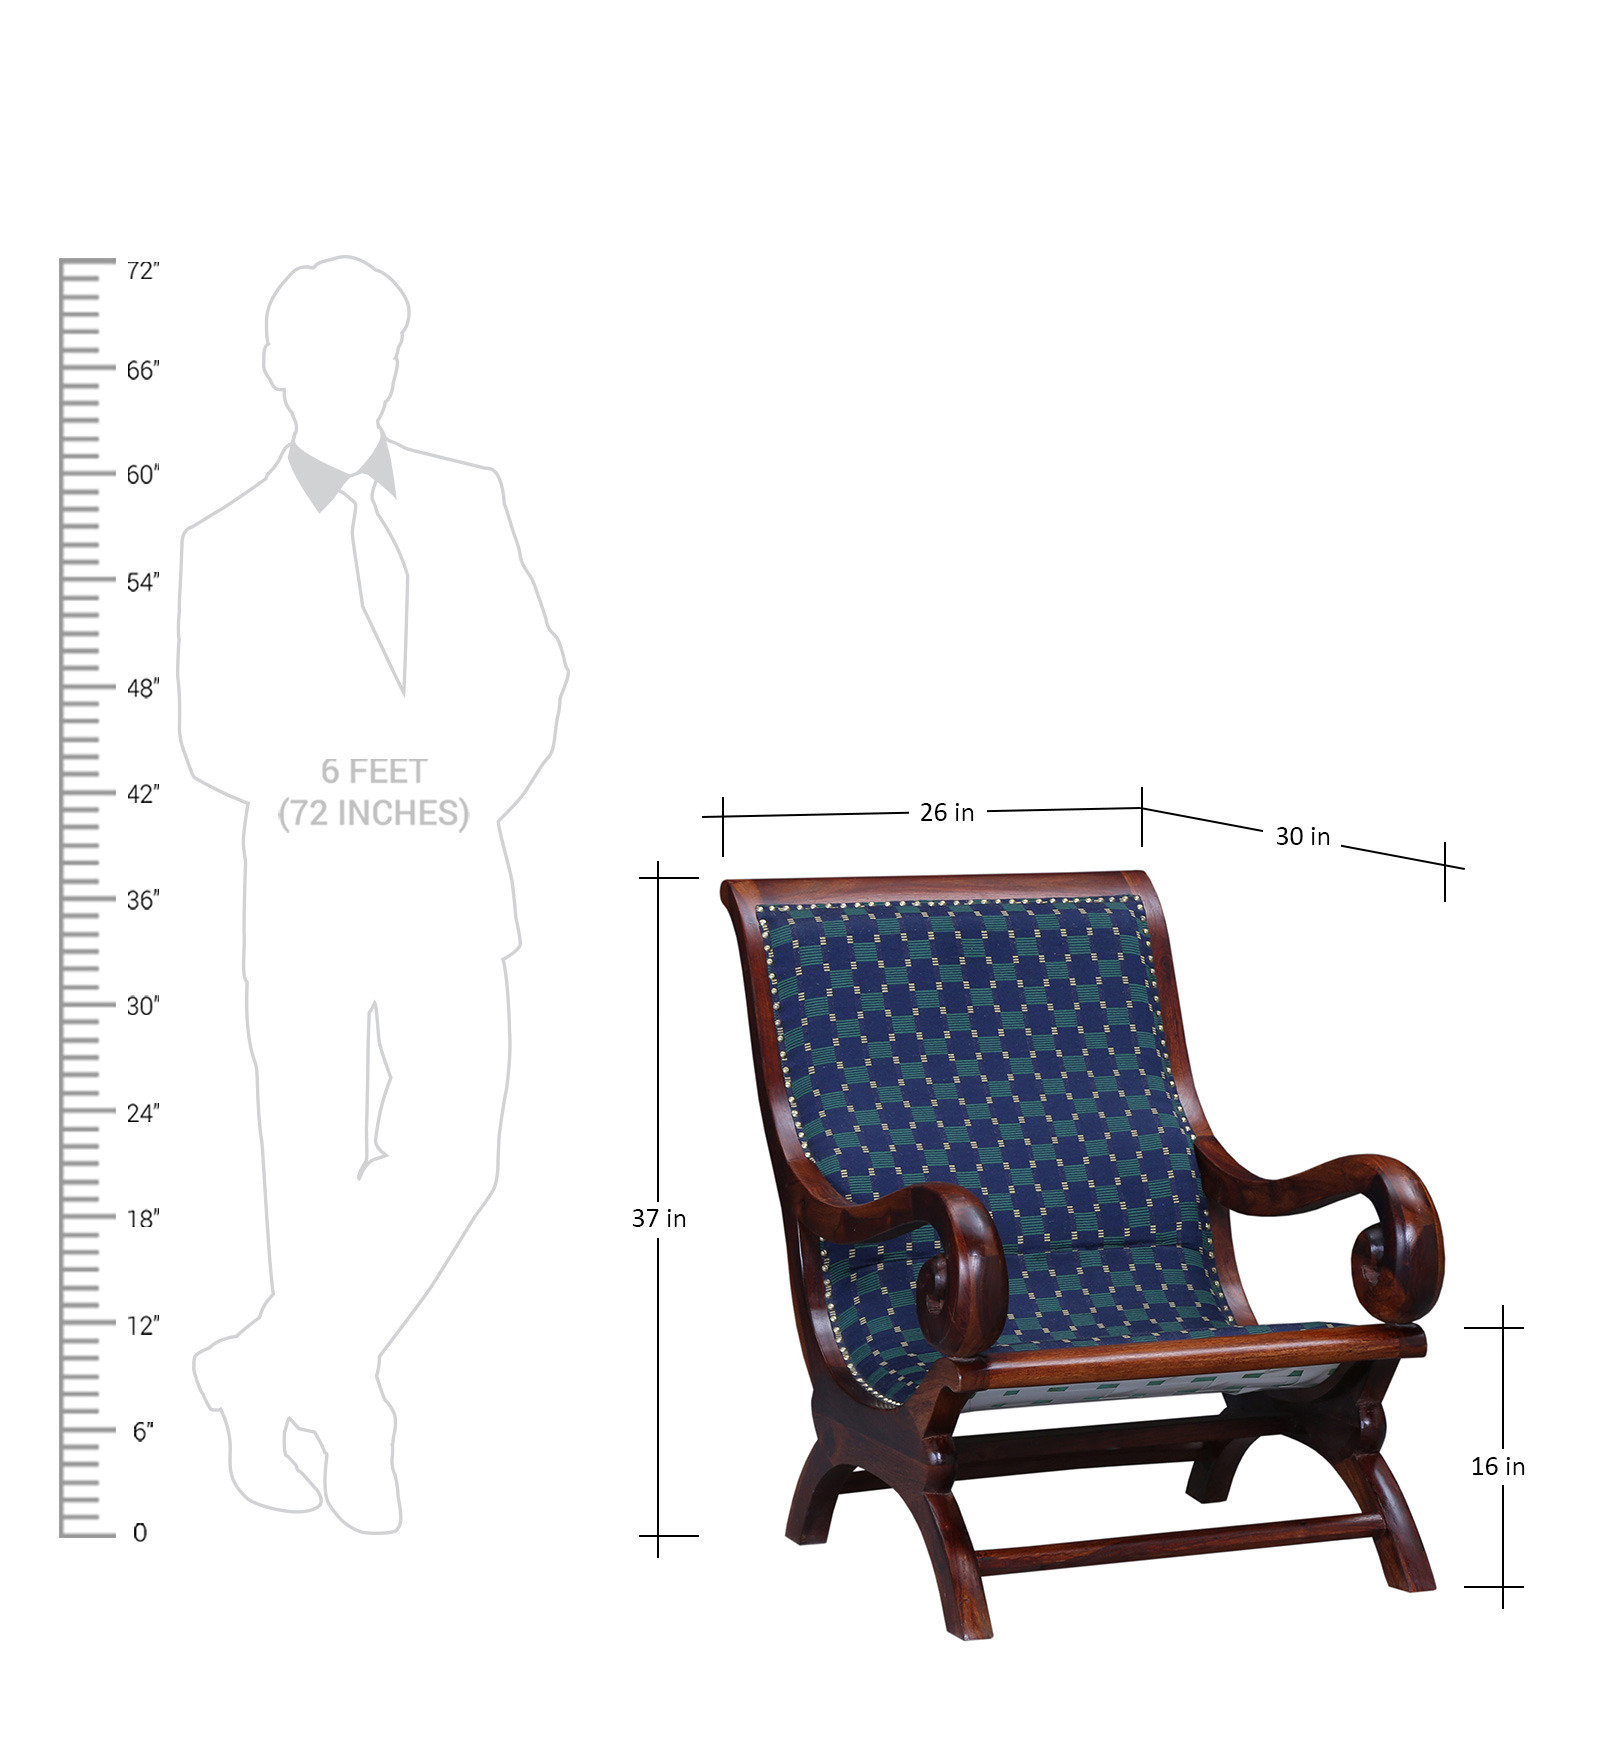Amherst Arm Chair in Honey Oak Finish by Amberville: (703, 866, 1465, 1671)
